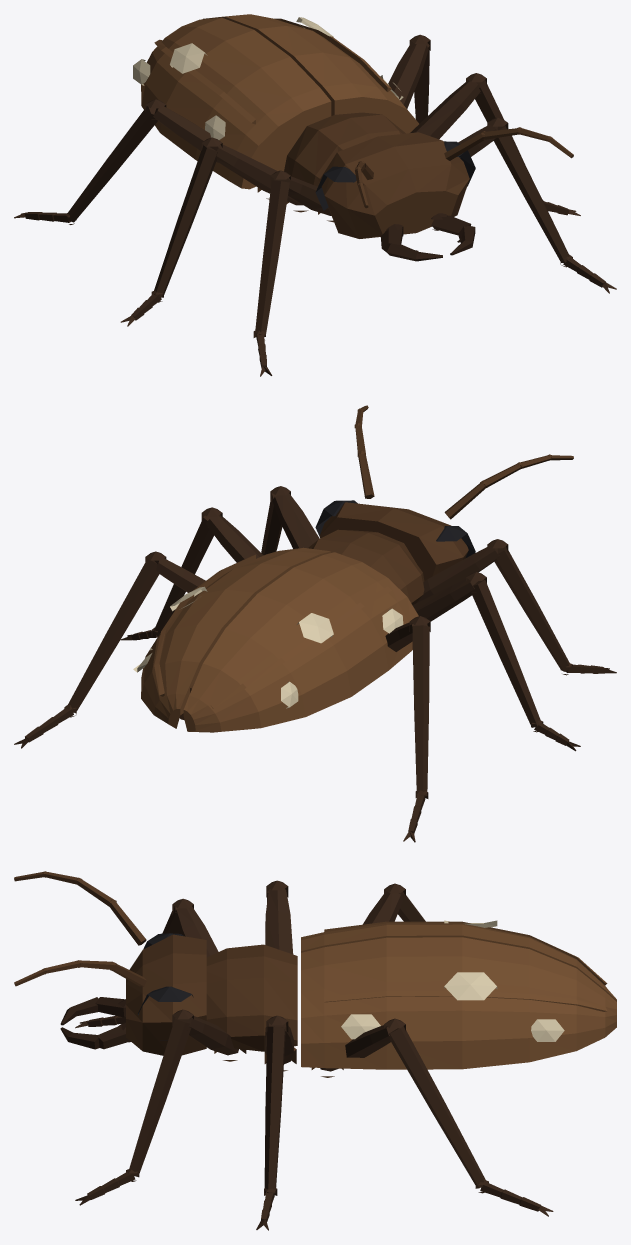
Rendered from standard_beetle.glb.
The picture shows the model from 3 angles, top to bottom: view 1: azimuth 30°, elevation 25°; view 2: azimuth 150°, elevation 25°; view 3: azimuth 270°, elevation 25°; orthographic projection. The views are drawn at different scales.
Parts seen in each view (by area): view 1: BeetlePlate_01, HeadBase001, BeetlePlate_00, ThoraxCore, Tibia001, Tibia003, Tibia000, Tibia005, Femur002, elytra_spot_01, Femur003, Femur004 (+6 smaller); view 2: BeetlePlate_01, BeetlePlate_00, HeadBase001, ThoraxCore, Tibia004, Tibia005, Tibia003, Tibia001, elytra_spot_01, Femur001, Femur000, Tibia002 (+4 smaller); view 3: BeetlePlate_00, ThoraxCore, HeadBase001, BeetlePlate_01, Tibia004, Tibia002, Tibia000, elytra_spot_00, Femur003, Femur000, Femur004, Femur001 (+4 smaller).
Part boxes in pixels (x1,y1,x2,y2): BeetlePlate_01: (141, 17, 331, 189); HeadBase001: (319, 132, 469, 238); BeetlePlate_00: (203, 14, 418, 133); ThoraxCore: (284, 112, 405, 186); Tibia001: (255, 180, 289, 335); Tibia003: (154, 145, 217, 297); Tibia000: (494, 125, 570, 262); Tibia005: (67, 106, 157, 222); Femur002: (410, 80, 480, 139); elytra_spot_01: (133, 43, 225, 139); Femur003: (210, 144, 303, 205); Femur004: (388, 42, 428, 108); BeetlePlate_01: (183, 552, 418, 732); BeetlePlate_00: (141, 547, 331, 728); HeadBase001: (319, 502, 468, 581); ThoraxCore: (308, 529, 424, 604); Tibia004: (68, 558, 159, 713); Tibia005: (412, 625, 429, 796); Tibia003: (471, 579, 541, 727); Tibia001: (494, 546, 570, 671); elytra_spot_01: (281, 608, 403, 708); Femur001: (417, 546, 499, 602); Femur000: (272, 493, 319, 548); Tibia002: (153, 515, 213, 636); BeetlePlate_00: (301, 937, 616, 1069); ThoraxCore: (206, 944, 297, 1051); HeadBase001: (126, 934, 206, 1055); BeetlePlate_01: (301, 921, 616, 1001); Tibia004: (389, 1026, 485, 1188); Tibia002: (264, 1026, 285, 1193); Tibia000: (128, 1018, 191, 1176); elytra_spot_00: (341, 972, 564, 1041); Femur003: (265, 889, 293, 954); Femur000: (179, 1016, 238, 1055); Femur004: (320, 1025, 396, 1071); Femur001: (175, 906, 218, 957).
Size of the model in its own units: 3.27 by 1.28 by 3.59.
